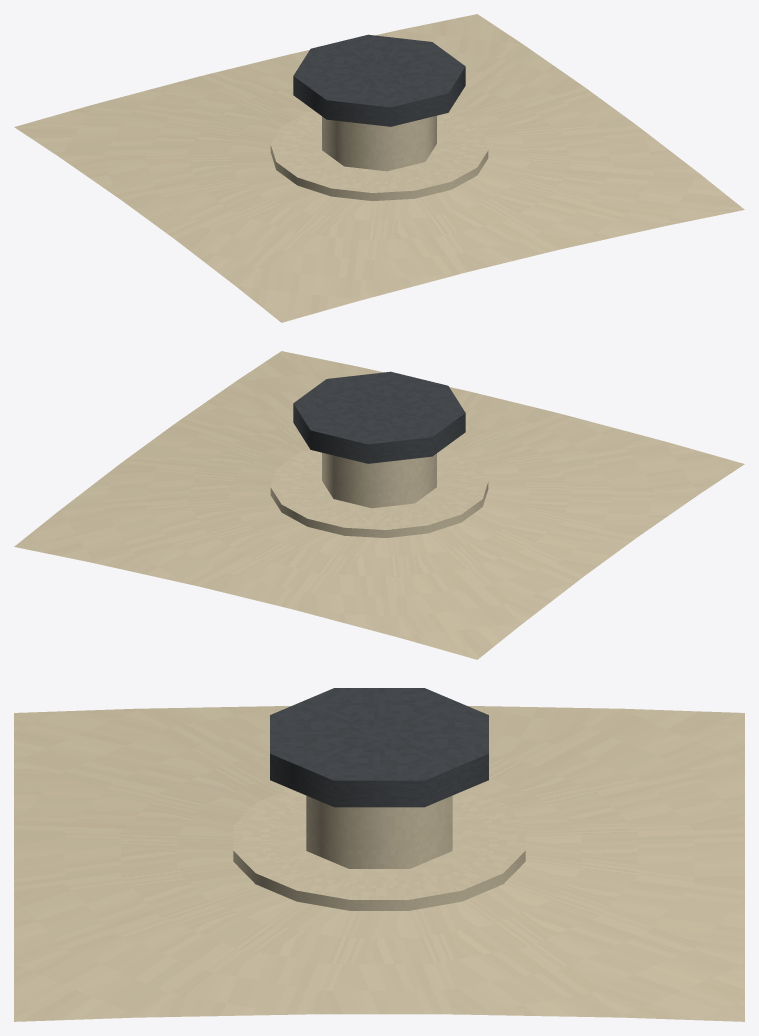
The model's file is tank_small_roof_1_1.obj.
3 views of the same model, one above another, from view 1: azimuth 30°, elevation 25°; view 2: azimuth 150°, elevation 25°; view 3: azimuth 270°, elevation 25° (orthographic). The views are drawn at different scales.
Visible parts, largest first — view 1: tank_small_roof_1_1; view 2: tank_small_roof_1_1; view 3: tank_small_roof_1_1.
Boxes of the visible parts, left/top/right/bottom form: tank_small_roof_1_1: left=14, top=14, right=744, bottom=322; tank_small_roof_1_1: left=14, top=351, right=744, bottom=659; tank_small_roof_1_1: left=14, top=688, right=744, bottom=1021.
Bounding box in the file's own units: 3 × 0.6025 × 3.
